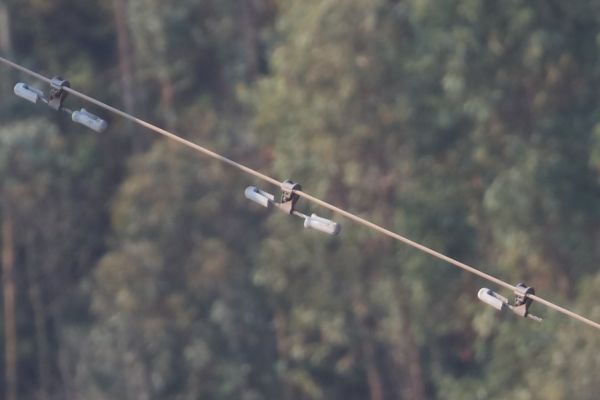damper: (242, 176, 342, 237), (11, 74, 108, 134)
damper_defect: (472, 279, 546, 323)
